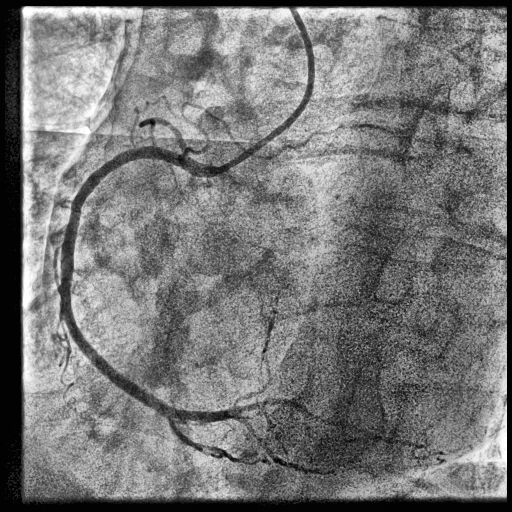pborca: (178, 399, 323, 424)
pda: (168, 420, 203, 451)
rca: (59, 147, 208, 421)
